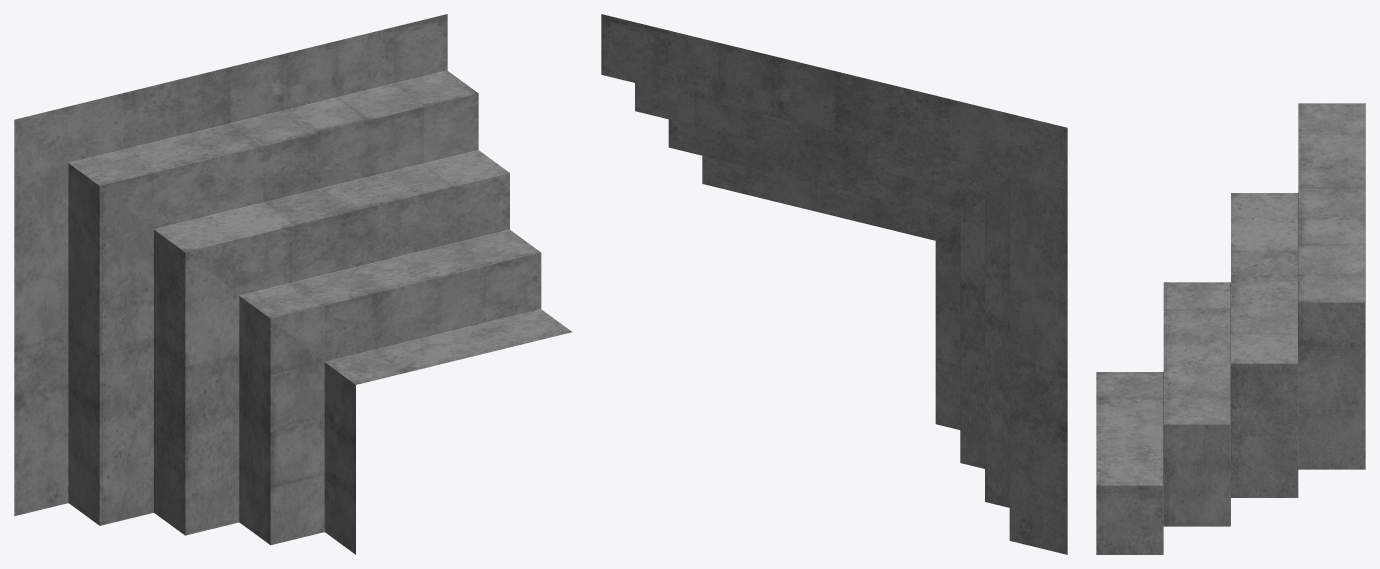
File: SM_Wall_27.fbx
The picture shows the model from 3 angles, left to right: view 1: azimuth 30°, elevation 25°; view 2: azimuth 150°, elevation 25°; view 3: azimuth 270°, elevation 25°; orthographic projection. The views are drawn at different scales.
Parts seen in each view (by area): view 1: SM_Wall_28; view 2: SM_Wall_28; view 3: SM_Wall_28.
Boxes of the visible parts, x1=… form: SM_Wall_28: x1=14, y1=14, x2=572, y2=554; SM_Wall_28: x1=601, y1=14, x2=1067, y2=554; SM_Wall_28: x1=1096, y1=103, x2=1365, y2=554.
Size of the model in its own units: 800 by 700 by 400.
